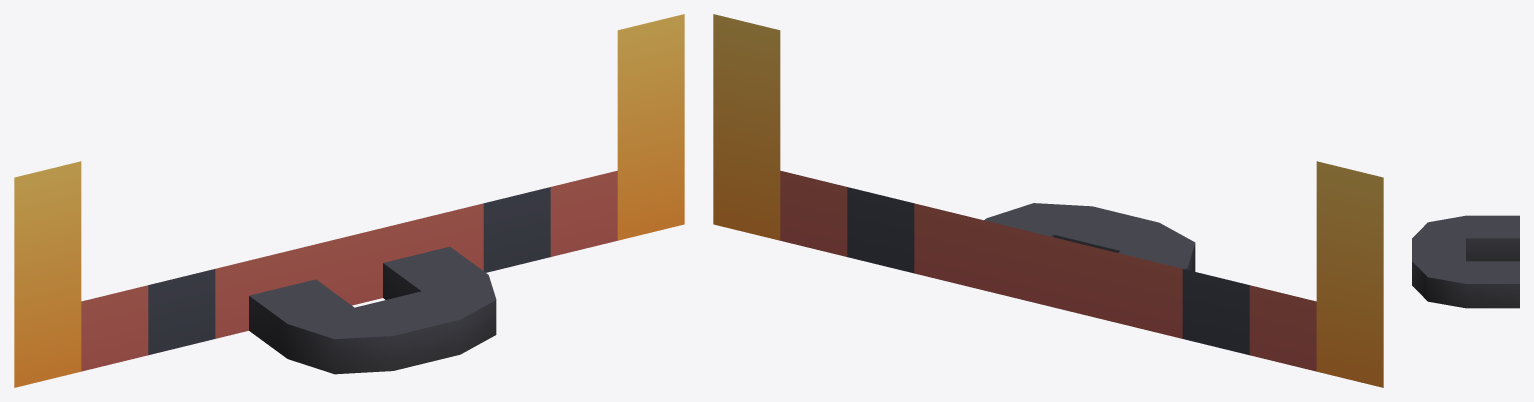
File: track-road-narrow-cap-back.fbx
3 views of the same model, side by side, from view 1: azimuth 30°, elevation 25°; view 2: azimuth 150°, elevation 25°; view 3: azimuth 270°, elevation 25° (orthographic). The views are drawn at different scales.
Parts seen in each view (by area): view 1: track-road-narrow-cap-back; view 2: track-road-narrow-cap-back; view 3: track-road-narrow-cap-back.
Part boxes in pixels (<box>): track-road-narrow-cap-back: <box>14,14,684,387</box>; track-road-narrow-cap-back: <box>713,14,1383,387</box>; track-road-narrow-cap-back: <box>1412,215,1519,308</box>.
Bounding box in the file's own units: 100 × 30 × 20.
